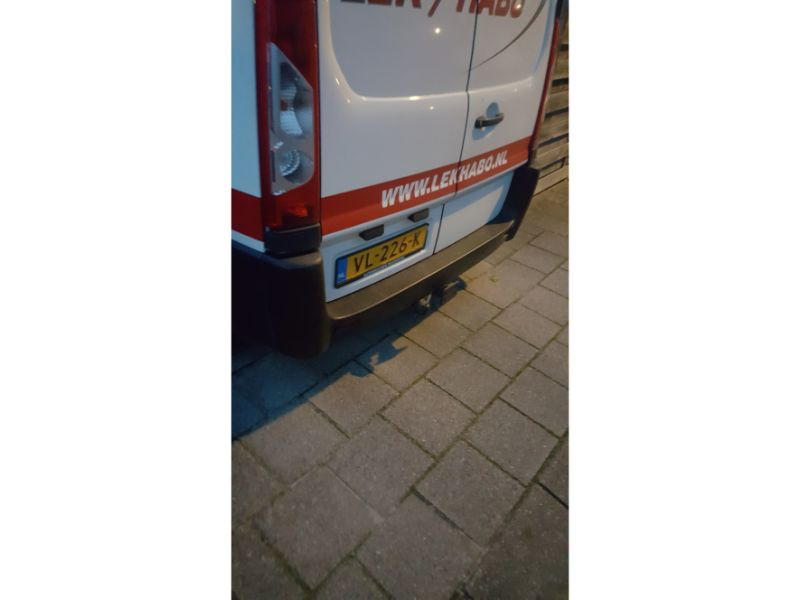kenteken: (338, 223, 434, 291)
